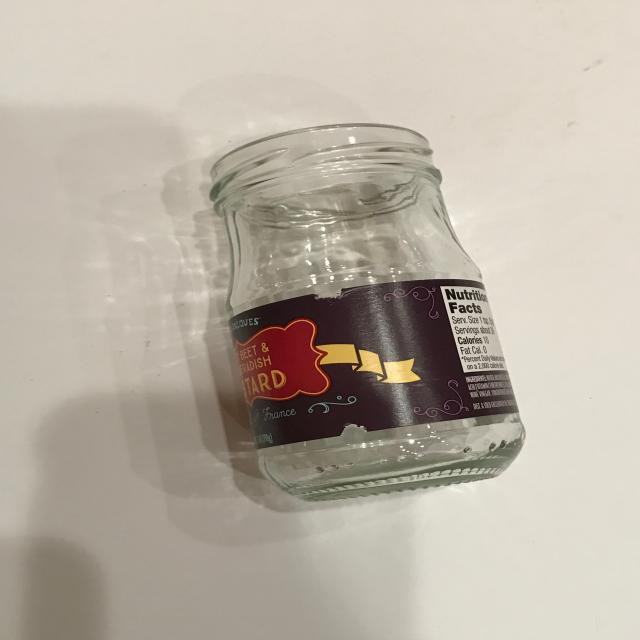Glass: (200, 107, 541, 512)
